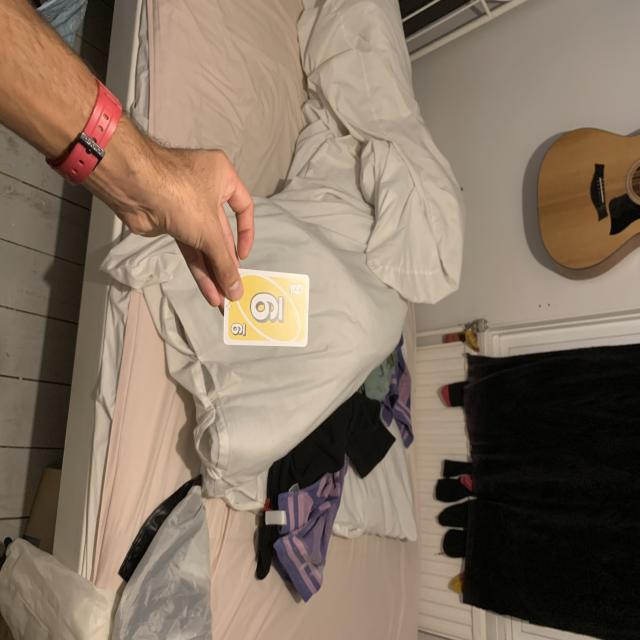lyellow-9: (286, 274, 306, 305)
